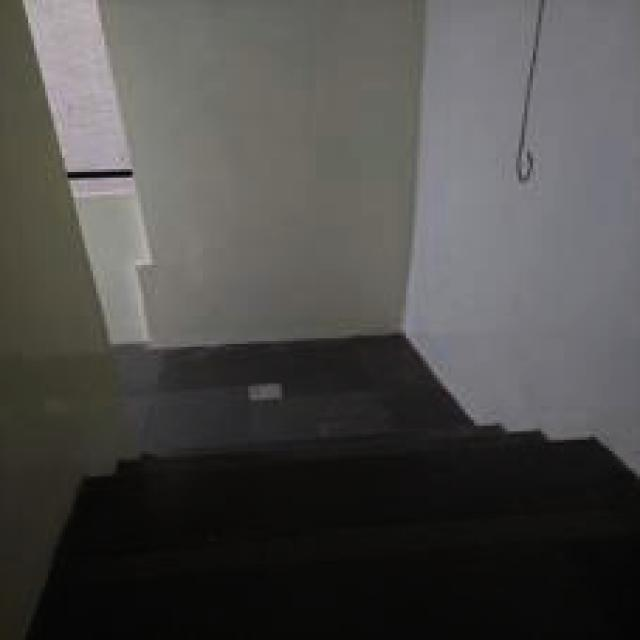downstair: (66, 401, 534, 517)
